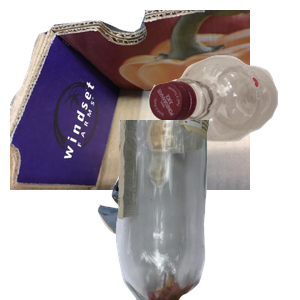cardboard: (10, 10, 250, 190)
glass: (113, 120, 300, 300)
plastic: (146, 53, 300, 187)
trash: (95, 157, 282, 300)
